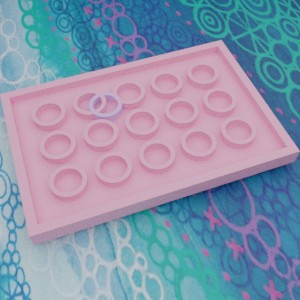lego: (0, 39, 299, 245), (86, 92, 125, 129)
